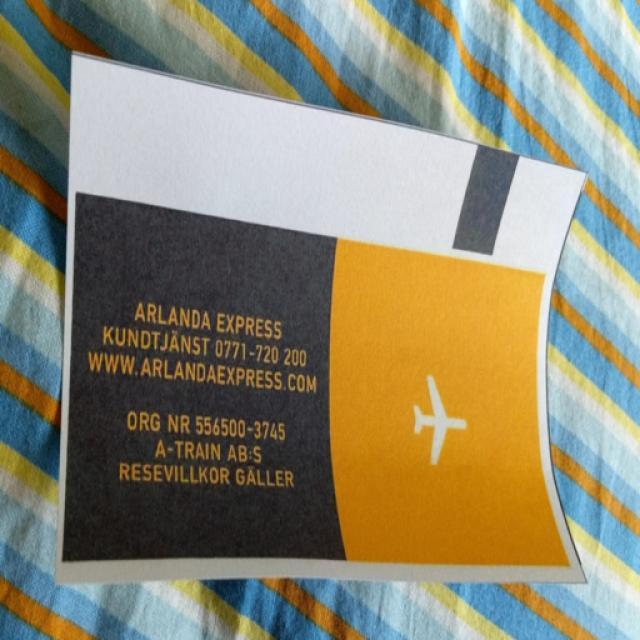document: (59, 55, 583, 582)
